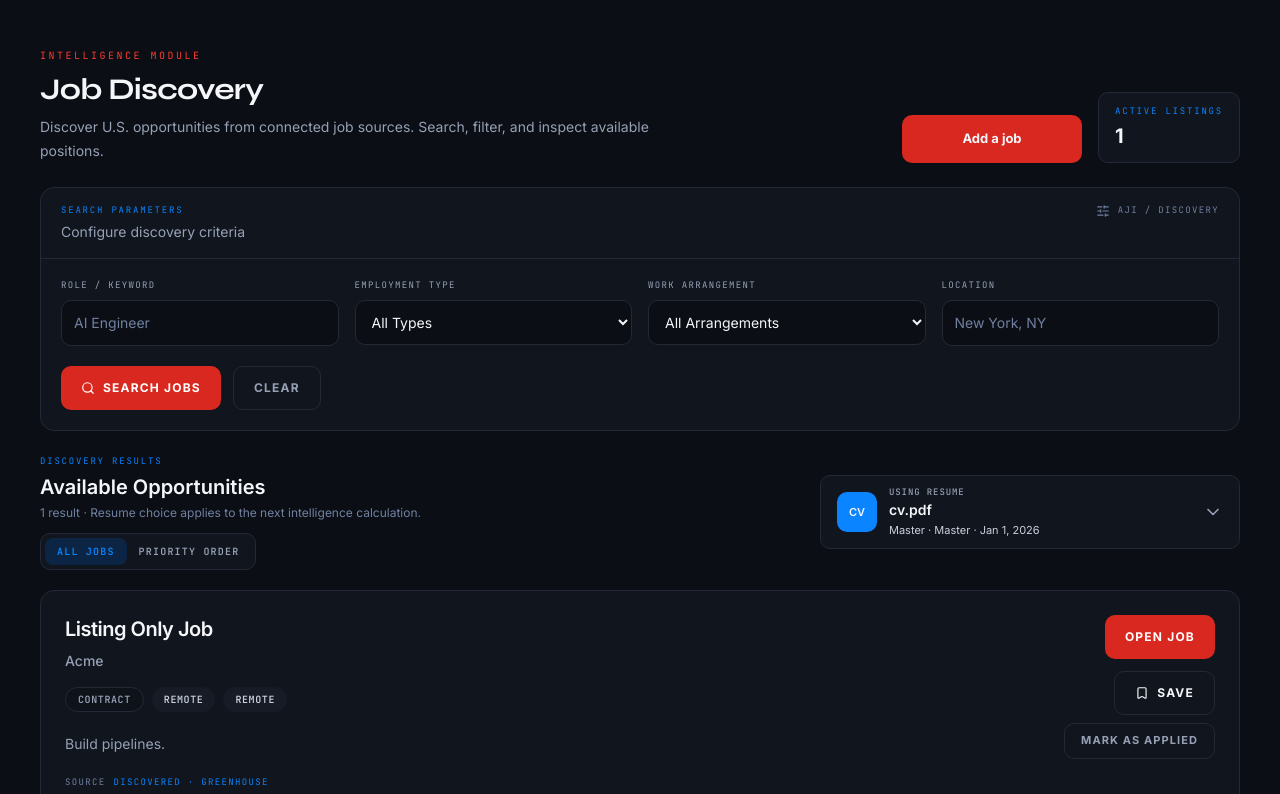
Scenario: Jobs page — Priority view (AJI-025) › switches back to the unchanged listing
Expected: the heading "Listing Only Job" is shown, [65,616,213,640]
Click the button "Priority order": coordinates (189, 551) [127,538,251,564]
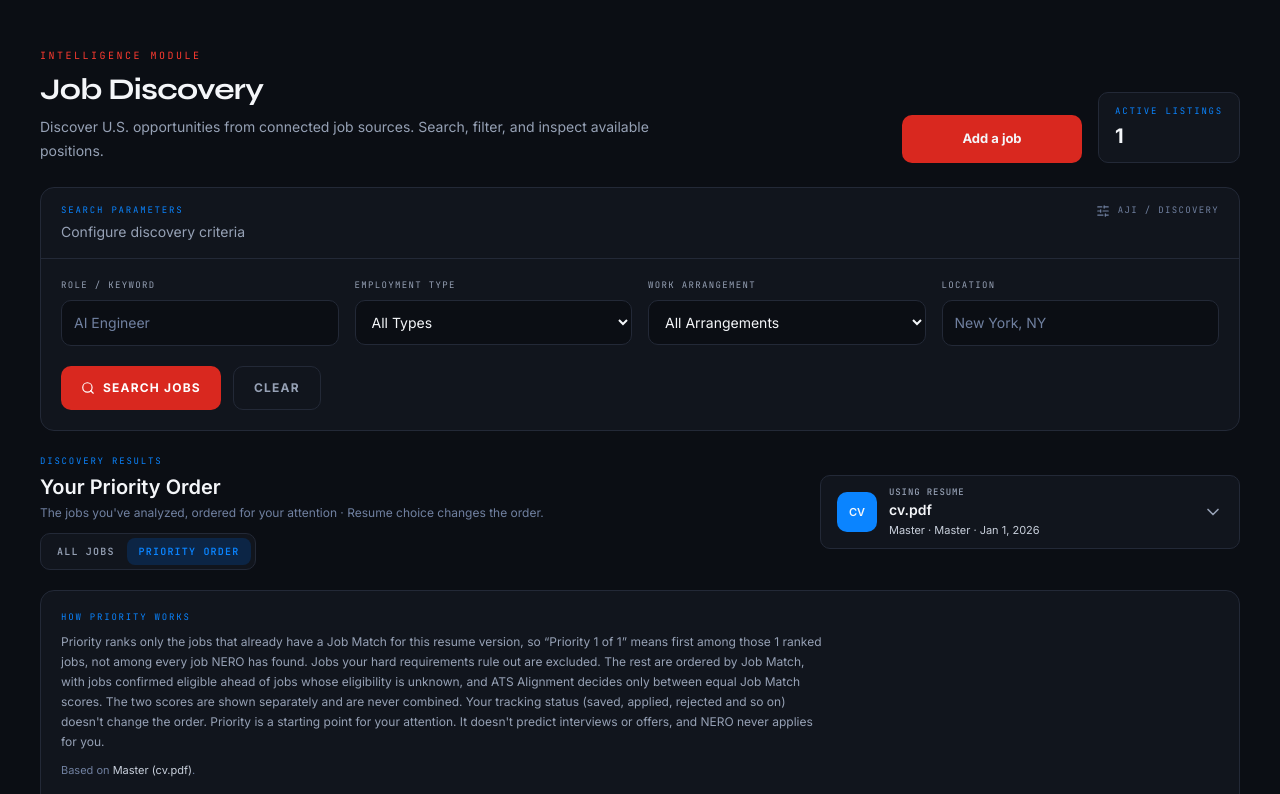
Click the button "All jobs": coordinates (86, 551) [45,538,127,564]
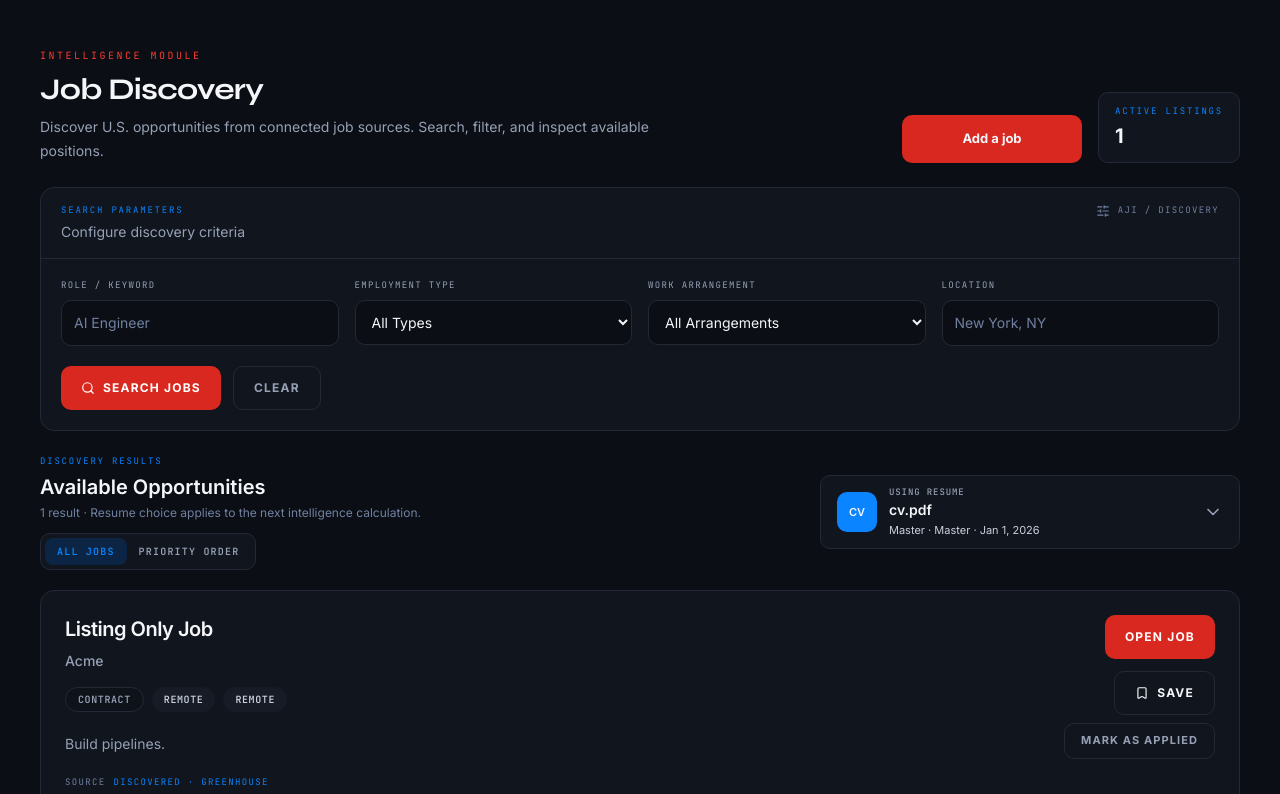
Expected: the heading "Listing Only Job" is shown, [65,616,213,640]
